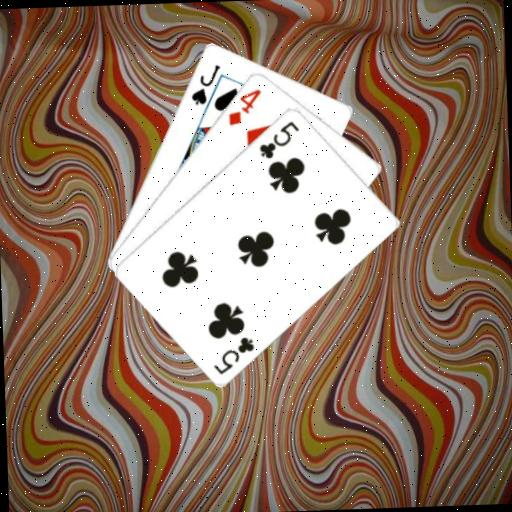4D: (224, 85, 264, 127)
5C: (254, 116, 301, 160), (210, 332, 257, 376)
JS: (186, 60, 223, 106)
